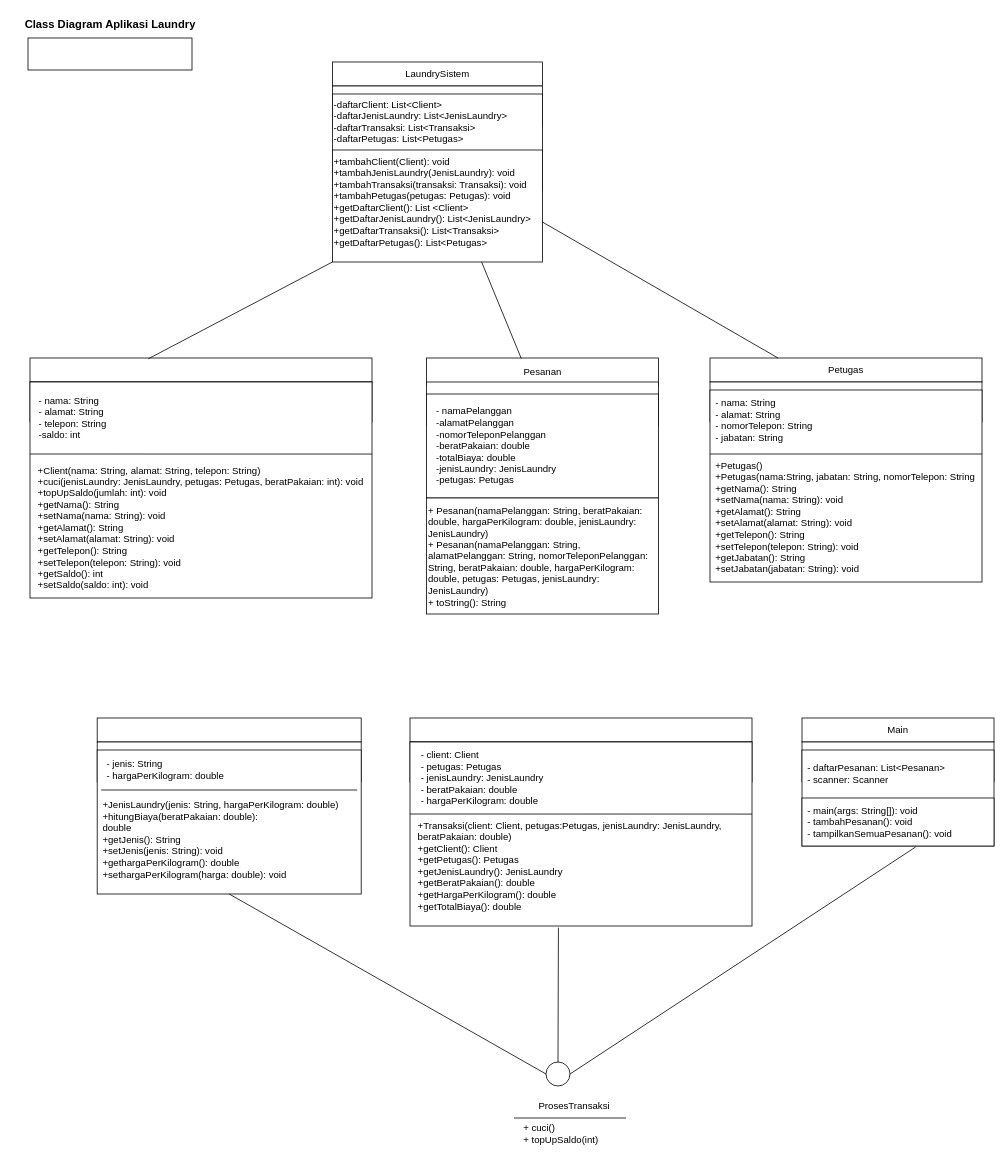
Image size: 1008x1163. Some labels were removed from this diagram. The box of each missing label's shape, as (x1, y1, x2, y2) in pixels:
Client: (29, 357, 372, 382)
JenisLaundry: (96, 717, 361, 742)
Shark Laundry: (27, 37, 192, 70)
Transaksi: (409, 717, 752, 742)
